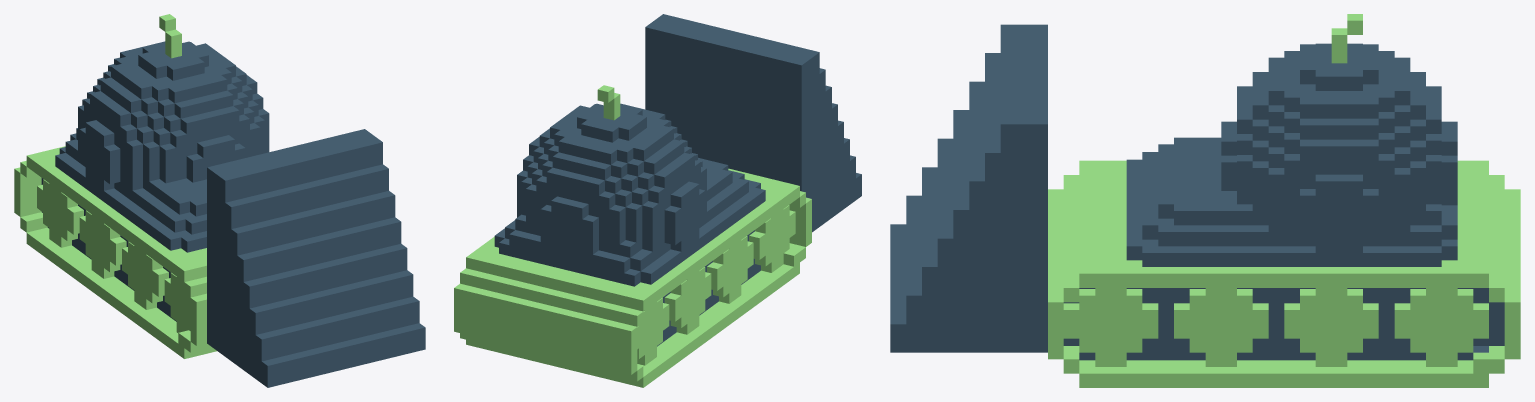
Rendered from tanquinho.obj.
3 renders of one model, left to right at view 1: azimuth 30°, elevation 25°; view 2: azimuth 150°, elevation 25°; view 3: azimuth 270°, elevation 25°, orthographic. The views are drawn at different scales.
Size of the model in its own units: 1.7 by 2.2 by 4.
Materials: 1 (1 with a texture image).
